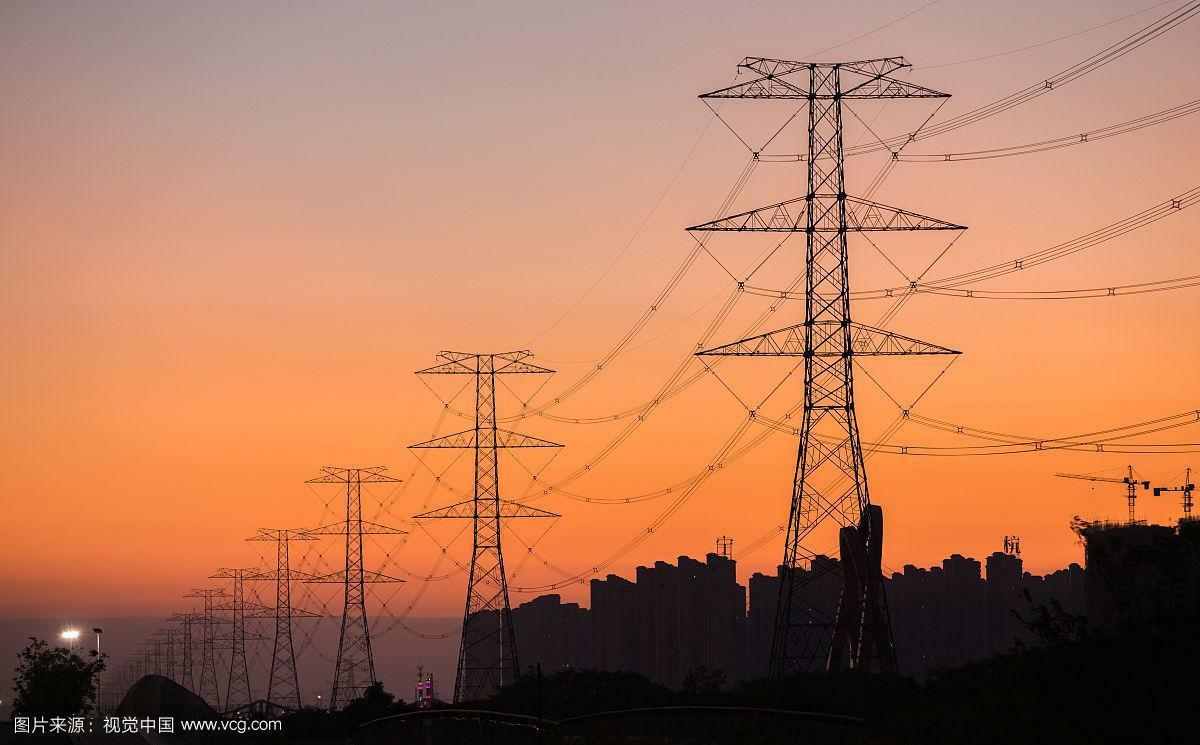power_tower: (685, 48, 951, 591), (414, 327, 580, 687), (318, 453, 418, 719), (246, 513, 322, 715)
